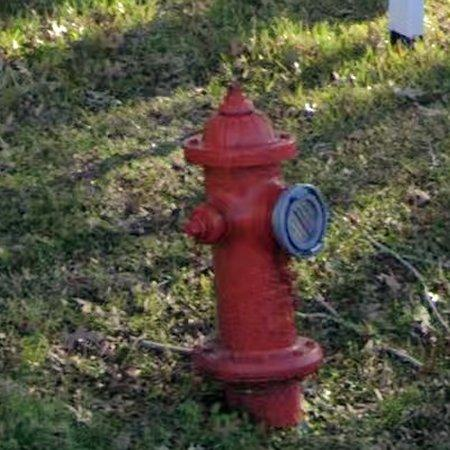a fire hydrant: (184, 83, 328, 428)
